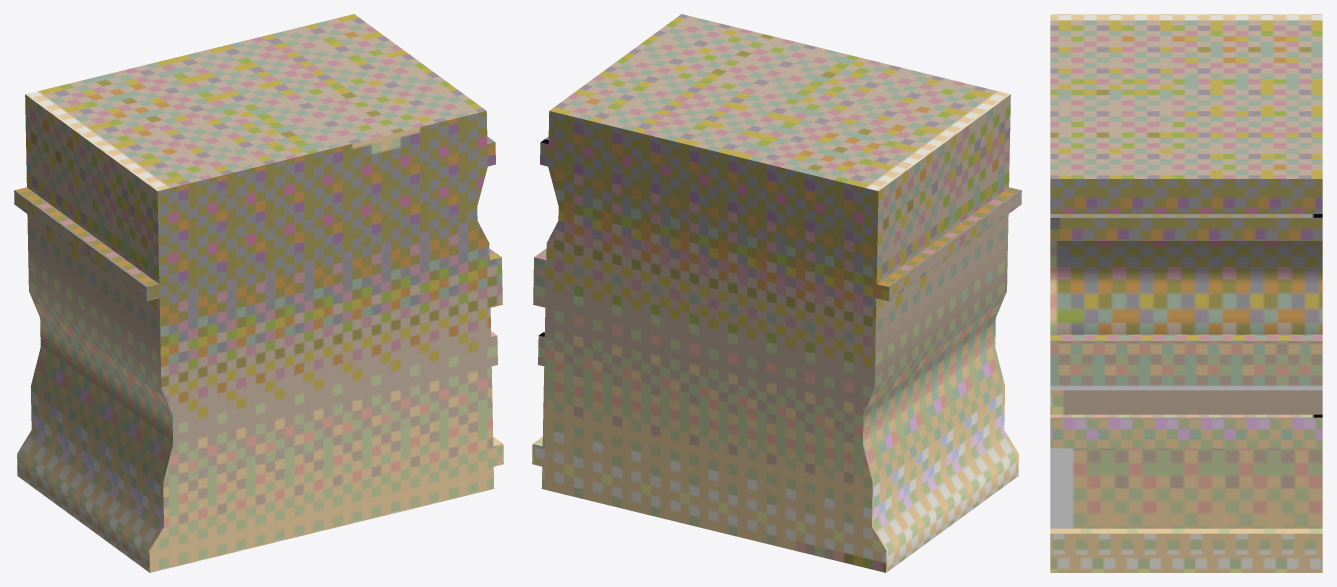
File: Pila_Hoja_1.fbx
3 views of the same model, side by side, from view 1: azimuth 30°, elevation 25°; view 2: azimuth 150°, elevation 25°; view 3: azimuth 270°, elevation 25° (orthographic). The views are drawn at different scales.
Parts seen in each view (by area): view 1: Torre_Hojas2; view 2: Torre_Hojas2; view 3: Torre_Hojas2.
Part boxes in pixels (x1,y1,x2,y2): Torre_Hojas2: (14, 14, 503, 572); Torre_Hojas2: (532, 14, 1021, 572); Torre_Hojas2: (1050, 14, 1322, 572).
Size of the model in its own units: 1.86 by 1.89 by 1.19.
